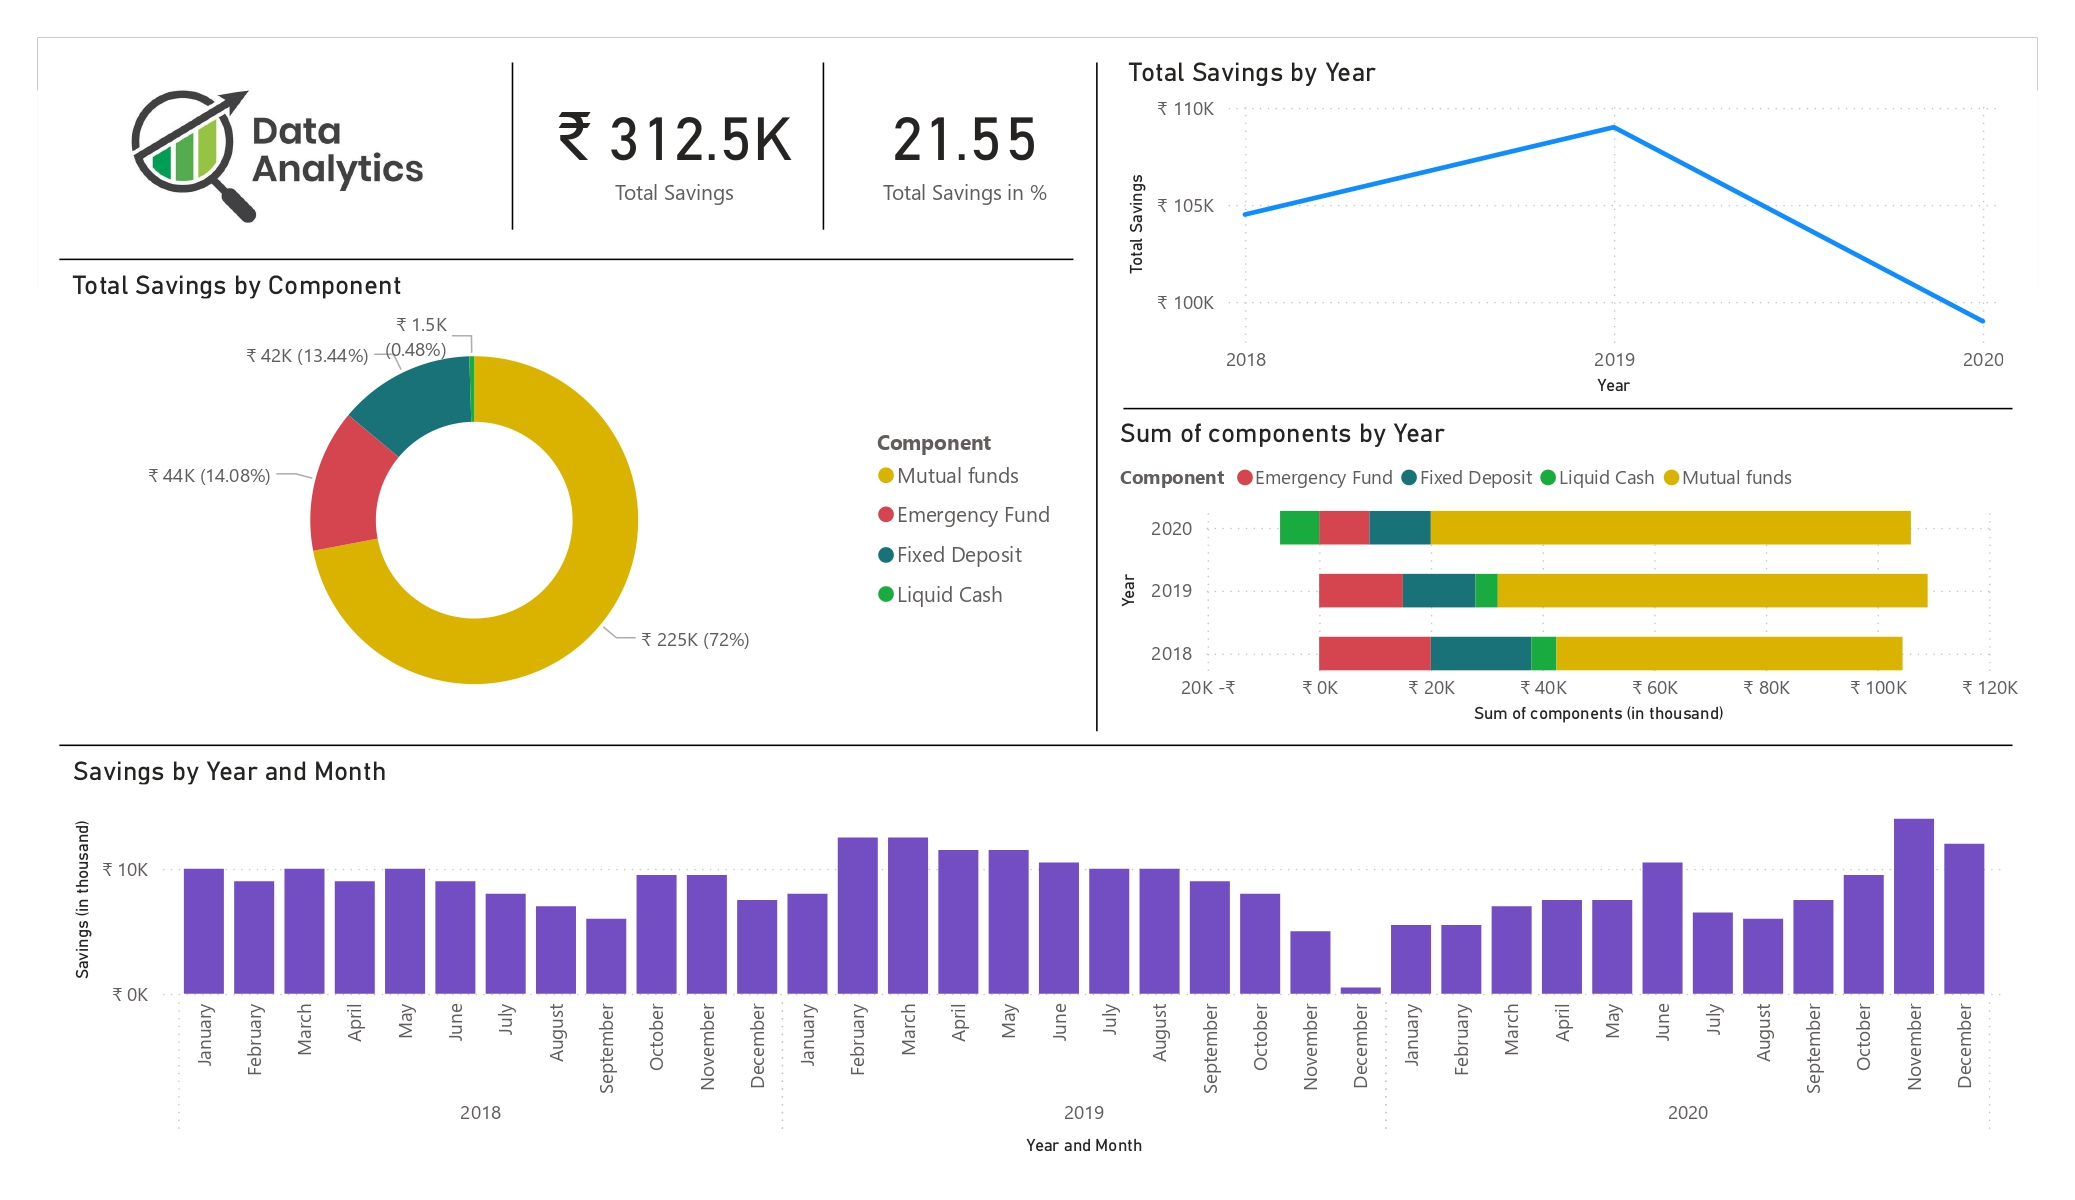

What the dashboard file says about the page in this screenshot:
{"tool":"powerbi","page":{"name":"Savings","canvas":[1280,720],"ordinal":1},"visuals":[{"type":"card","fields":{"Values":["FinData.Total Savings"]},"box":[321,23.5,172.8,93.8],"z":0},{"type":"image","box":[0,0,307.4,142],"z":1000},{"type":"card","fields":{"Values":["FinData.Total Savings in %"]},"box":[503.7,23.5,179,93.8],"z":2000},{"type":"donutChart","fields":{"Category":["FinData.Component"],"Y":["FinData.Total Savings"]},"box":[17.3,148.1,645.7,302.5],"z":3000},{"type":"barChart","title":"Sum of components by Year","fields":{"Category":["FinData.Year"],"Series":["FinData.Component"],"Y":["FinData.Total Savings"]},"box":[687.7,243.2,585.2,201.2],"z":4000},{"type":"columnChart","title":"Savings by Year and Month","fields":{"Category":["FinData.Date.Variation.Date Hierarchy.Year","FinData.Date.Variation.Date Hierarchy.Month"],"Y":["FinData.Total Savings"]},"box":[17.5,458.8,1246.2,261.2],"z":5000},{"type":"shape","box":[301.2,16,6.2,107.4],"z":6000},{"type":"shape","box":[495.1,16,16,107.4],"z":7000},{"type":"shape","box":[671.6,16,12.3,428.4],"z":8000},{"type":"shape","box":[13.6,135.8,649.4,12.3],"z":9000},{"type":"shape","box":[13.6,446.9,1250.6,12.3],"z":10000},{"type":"shape","box":[695.1,232.1,569.1,11.1],"z":11000},{"type":"lineChart","fields":{"Y":["FinData.Total Savings"],"Category":["FinData.Date.Variation.Date Hierarchy.Year"]},"box":[693.3,12.2,569.8,221.3],"z":12000}]}

Visuals, with their boxes in screenshot pixels (x1, y1, x2, y2):
card - FinData.Total Savings: detection(539, 74, 809, 221)
image: detection(38, 38, 518, 259)
card - FinData.Total Savings in %: detection(825, 74, 1104, 221)
donutChart - FinData.Component x FinData.Total Savings: detection(65, 269, 1073, 742)
"Sum of components by Year" barChart: detection(1112, 418, 2026, 732)
"Savings by Year and Month" columnChart: detection(65, 754, 2012, 1162)
shape: detection(508, 62, 518, 230)
shape: detection(811, 62, 836, 230)
shape: detection(1087, 62, 1106, 732)
shape: detection(59, 250, 1073, 269)
shape: detection(59, 736, 2013, 755)
shape: detection(1124, 400, 2013, 418)
lineChart - FinData.Total Savings x FinData.Date.Variation.Date Hierarchy.Year: detection(1121, 57, 2011, 402)
